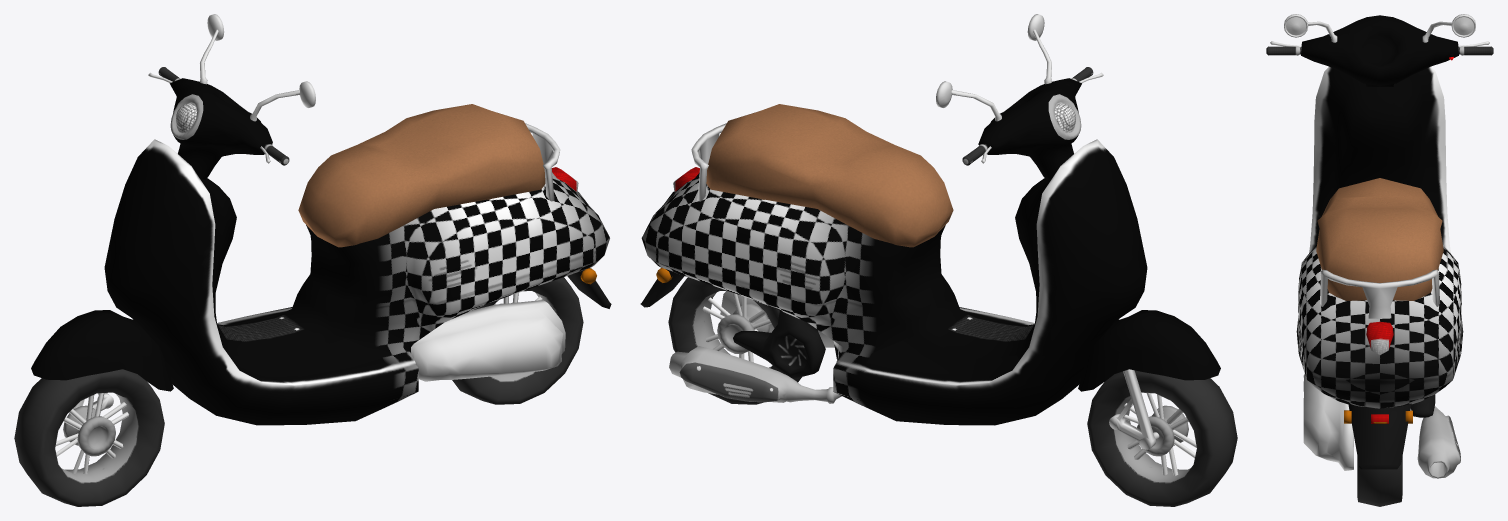
The model's file is simplescooter_blackwithcheckerpattern.fbx.
3 renders of one model, left to right at view 1: azimuth 30°, elevation 25°; view 2: azimuth 150°, elevation 25°; view 3: azimuth 270°, elevation 25°, orthographic. The views are drawn at different scales.
Visible parts, largest first — view 1: lowpolybase.010, lowpolybase.011, wheellowpoly.010, moteurlowpoly.005, devantrouelowpoly.005, devantlowpoly.005, wheellowpoly.011, tapislowpoly.005, derrierelowpoly.005, retrolowpoly.011; view 2: lowpolybase.010, lowpolybase.011, wheellowpoly.010, devantrouelowpoly.005, devantlowpoly.005, wheellowpoly.011, echaplowpoly.005, tapislowpoly.005, ventilolowpoly.005, Cylinder.006, derrierelowpoly.005, retrolowpoly.010; view 3: lowpolybase.010, lowpolybase.011, devantlowpoly.005, moteurlowpoly.005, trucderrirerelowpoly.005, echaplowpoly.005, derrierelowpoly.005, wheellowpoly.011, Plane.005, retrolowpoly.010, retrolowpoly.011, ventilolowpoly.005 (+2 smaller).
Boxes of the visible parts, x1,y1,x2,y2 form: lowpolybase.010: [104, 139, 609, 425]; lowpolybase.011: [298, 104, 545, 247]; wheellowpoly.010: [14, 369, 164, 506]; moteurlowpoly.005: [411, 300, 565, 381]; devantrouelowpoly.005: [31, 310, 173, 391]; devantlowpoly.005: [169, 78, 272, 179]; wheellowpoly.011: [452, 277, 583, 404]; tapislowpoly.005: [232, 313, 384, 379]; derrierelowpoly.005: [525, 123, 560, 201]; retrolowpoly.011: [250, 81, 315, 121]; lowpolybase.010: [641, 139, 1147, 425]; lowpolybase.011: [706, 104, 953, 247]; wheellowpoly.010: [1087, 370, 1237, 506]; devantrouelowpoly.005: [1078, 310, 1220, 391]; devantlowpoly.005: [979, 78, 1081, 179]; wheellowpoly.011: [668, 277, 817, 404]; echaplowpoly.005: [669, 346, 841, 403]; tapislowpoly.005: [867, 313, 1019, 379]; ventilolowpoly.005: [733, 310, 825, 378]; Cylinder.006: [1109, 369, 1159, 449]; derrierelowpoly.005: [691, 123, 726, 201]; retrolowpoly.010: [936, 81, 1001, 121]; lowpolybase.010: [1296, 66, 1463, 408]; lowpolybase.011: [1316, 178, 1443, 300]; devantlowpoly.005: [1301, 15, 1458, 86]; moteurlowpoly.005: [1303, 374, 1353, 470]; trucderrirerelowpoly.005: [1348, 403, 1411, 469]; echaplowpoly.005: [1417, 406, 1460, 478]; derrierelowpoly.005: [1320, 269, 1439, 318]; wheellowpoly.011: [1357, 456, 1402, 506]; Plane.005: [1366, 321, 1393, 354]; retrolowpoly.010: [1422, 14, 1475, 42]; retrolowpoly.011: [1284, 14, 1337, 42]; ventilolowpoly.005: [1411, 394, 1435, 417].
Bounding box in the file's own units: 372 × 252 × 138.
Materials: 1 (1 with a texture image).
